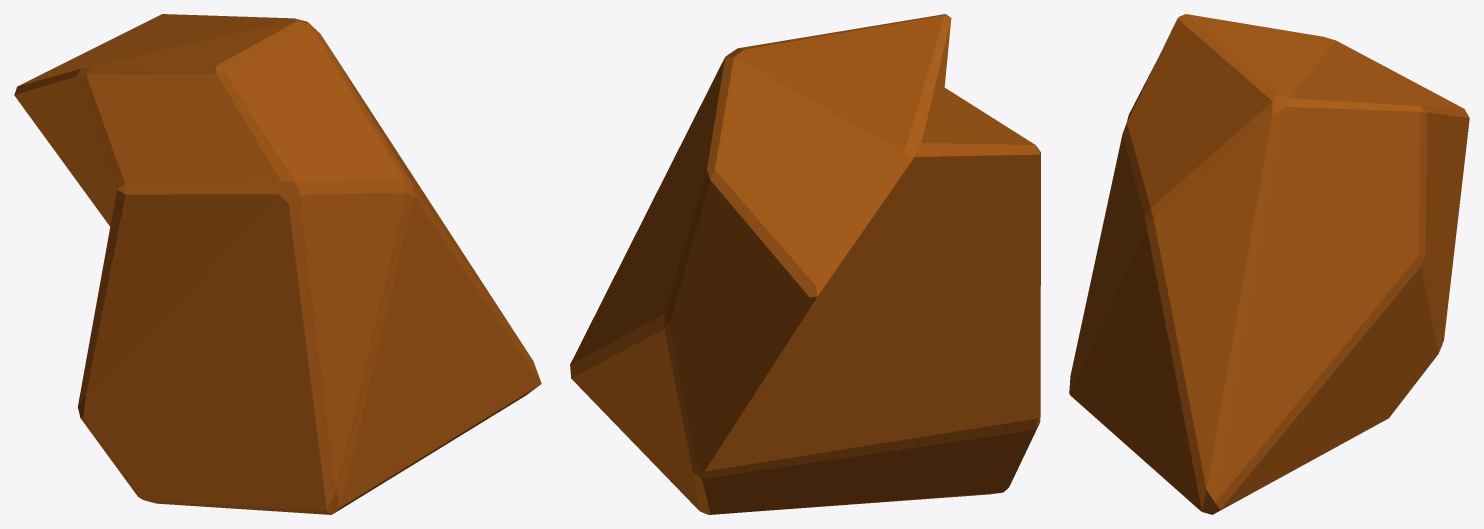
The model's file is Roca3.fbx.
3 views of the same model, side by side, from view 1: azimuth 30°, elevation 25°; view 2: azimuth 150°, elevation 25°; view 3: azimuth 270°, elevation 25° (orthographic). The views are drawn at different scales.
Parts seen in each view (by area): view 1: Pedrolo3; view 2: Pedrolo3; view 3: Pedrolo3.
Boxes of the visible parts, x1,y1,x2,y2 form: Pedrolo3: [14, 14, 541, 514]; Pedrolo3: [570, 14, 1040, 514]; Pedrolo3: [1069, 14, 1469, 514].
Size of the model in its own units: 749 by 683 by 664.
